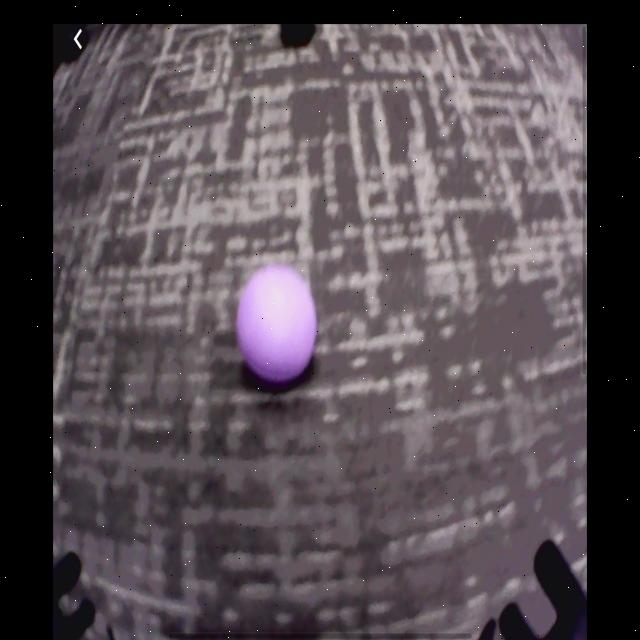ball: (237, 264, 318, 384)
